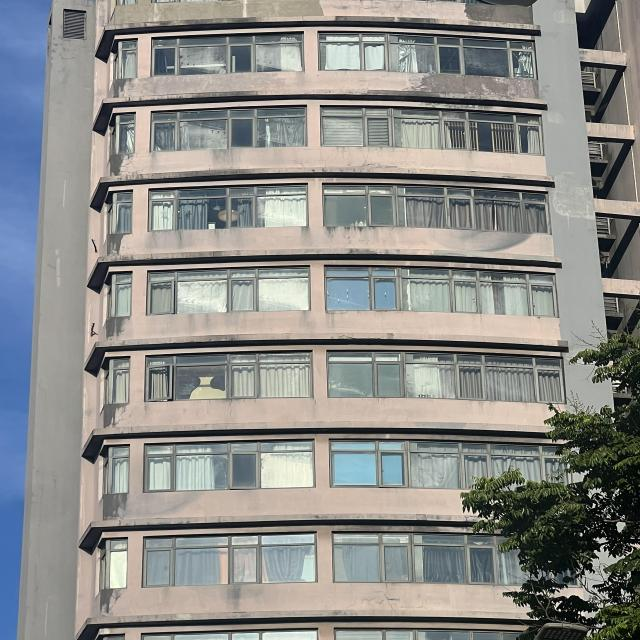damp: (190, 151, 269, 172)
spalling: (401, 70, 528, 99)
